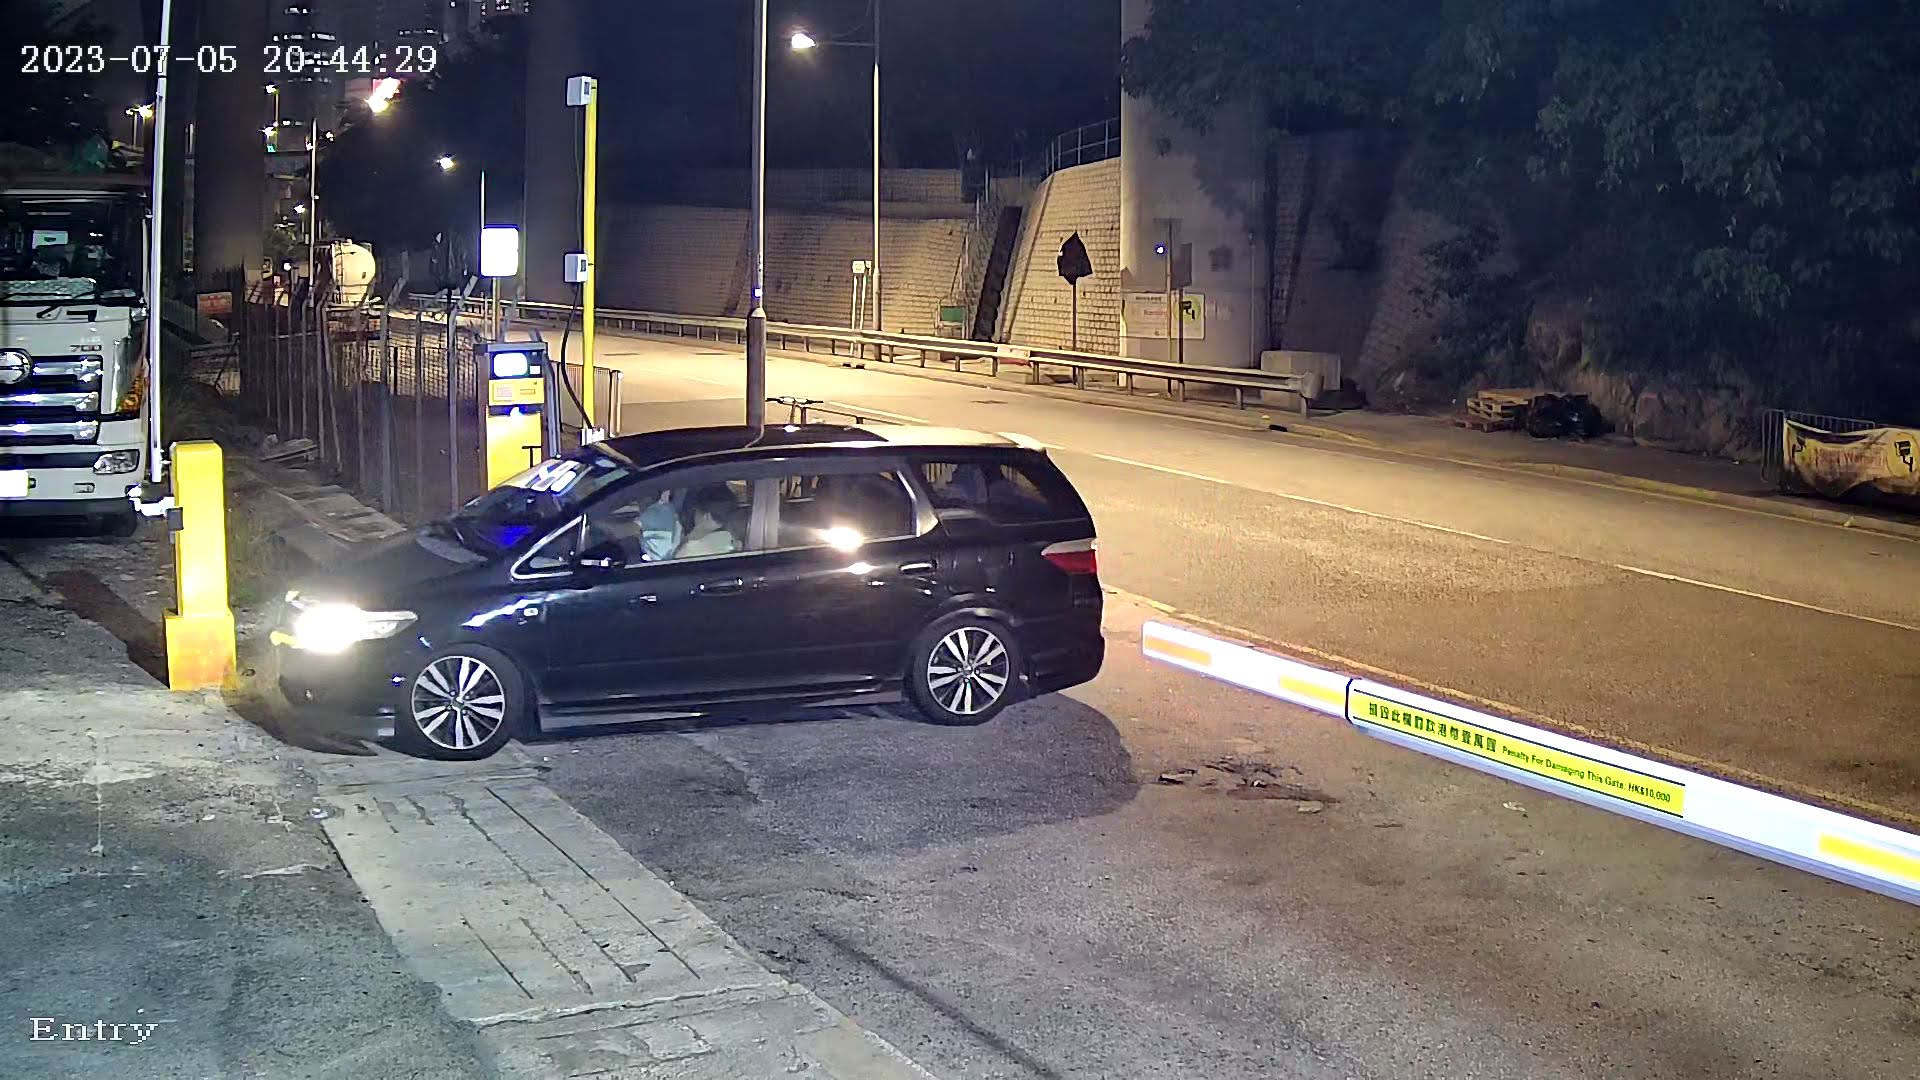privatecar: (196, 364, 1179, 812)
